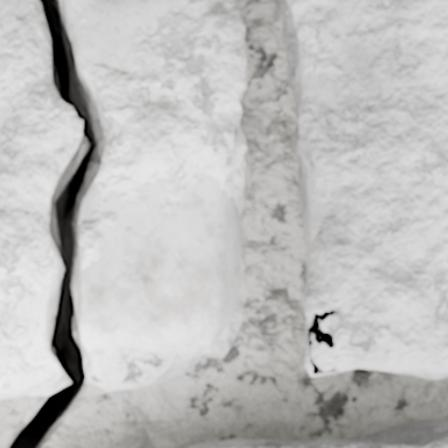brick: (276, 0, 447, 379), (184, 420, 447, 447), (305, 340, 312, 375)
broken_brick: (71, 0, 252, 391), (0, 0, 80, 398)
crack: (1, 0, 114, 447), (306, 308, 340, 374)
